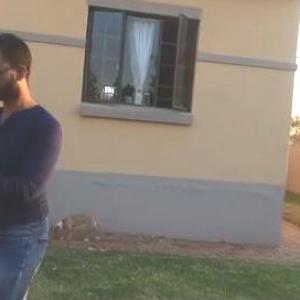follow: (0, 24, 66, 299)
null: (49, 208, 114, 245)
